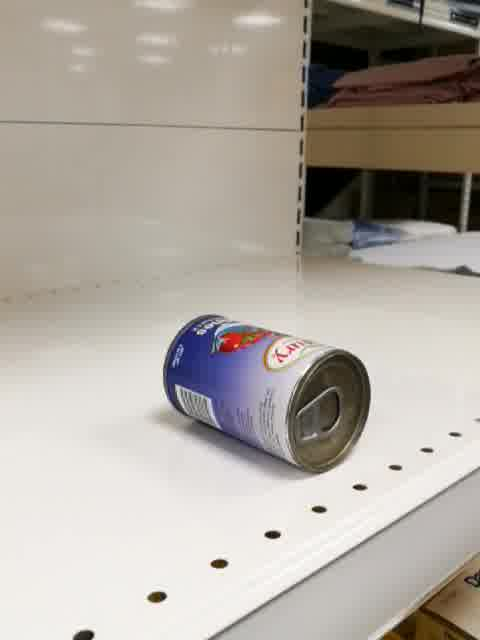sardine: (161, 313, 371, 474)
